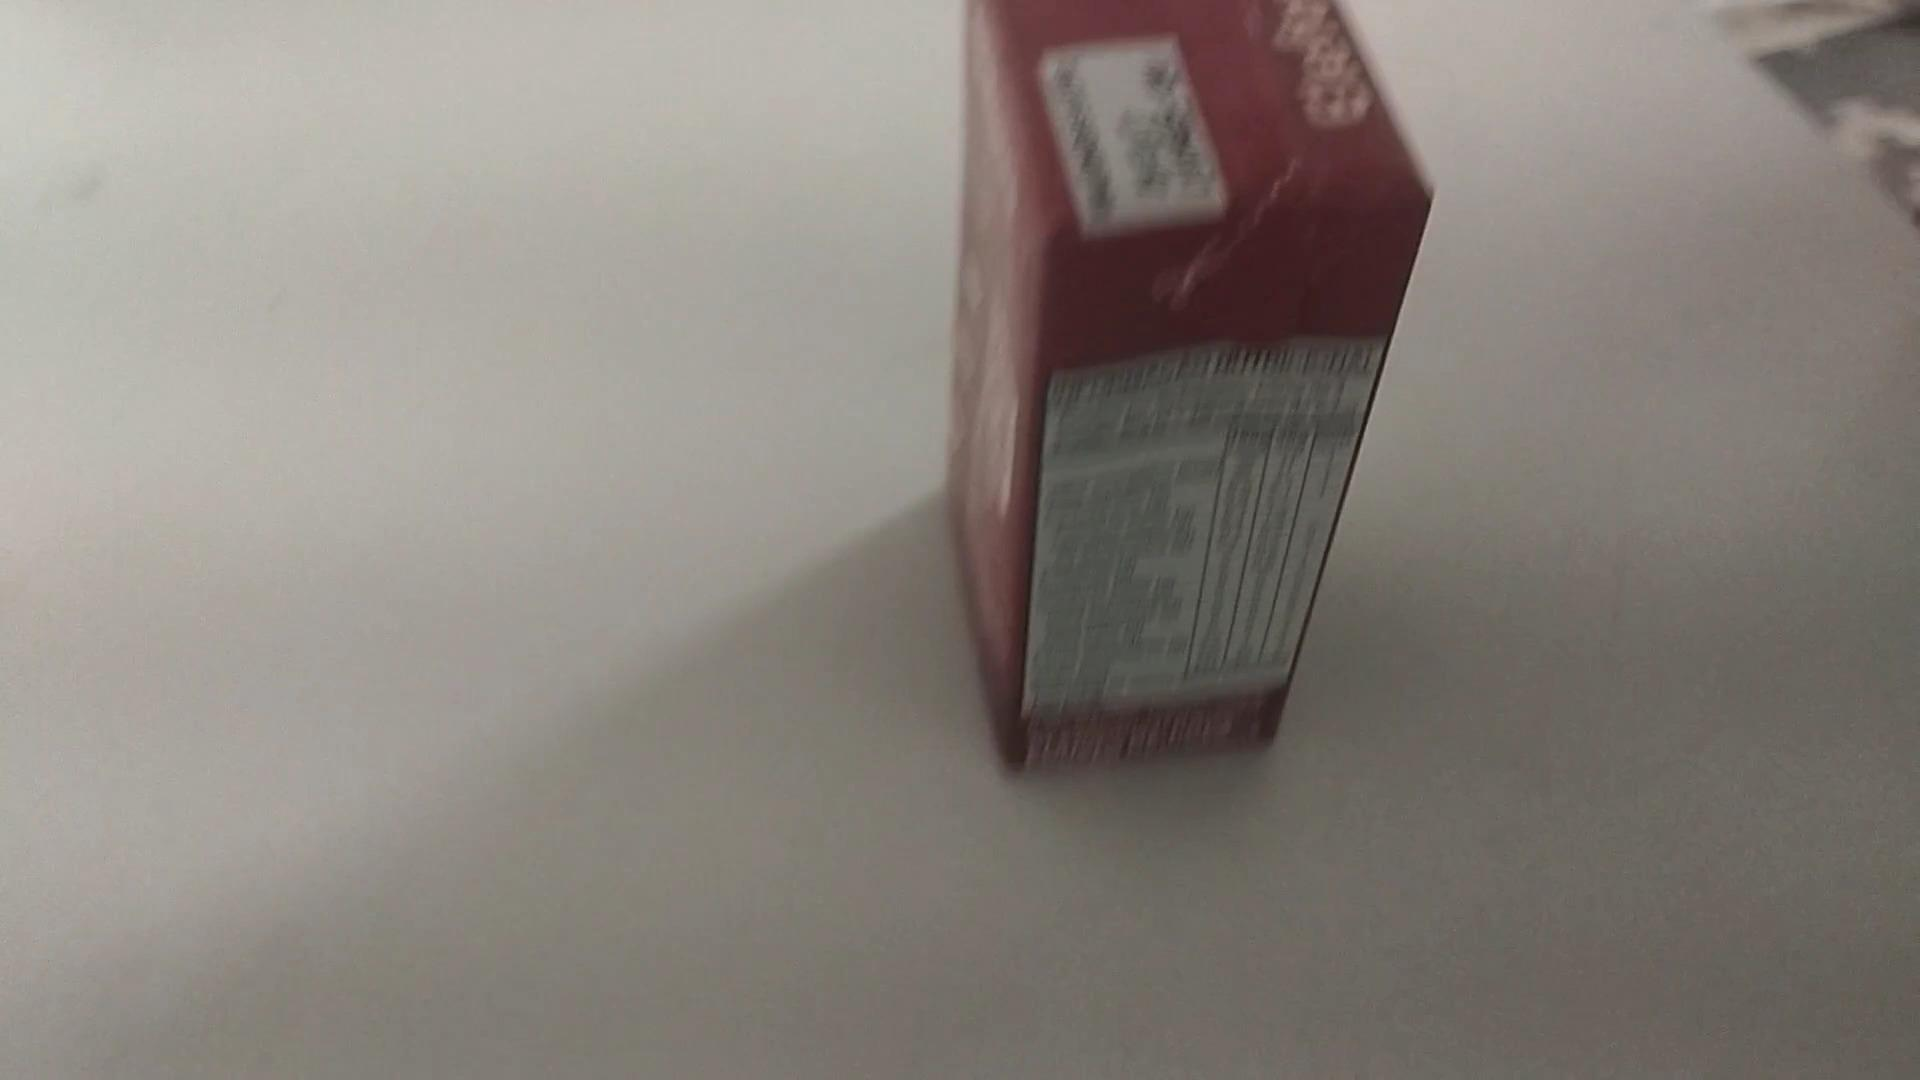tomate: (945, 0, 1441, 793)
